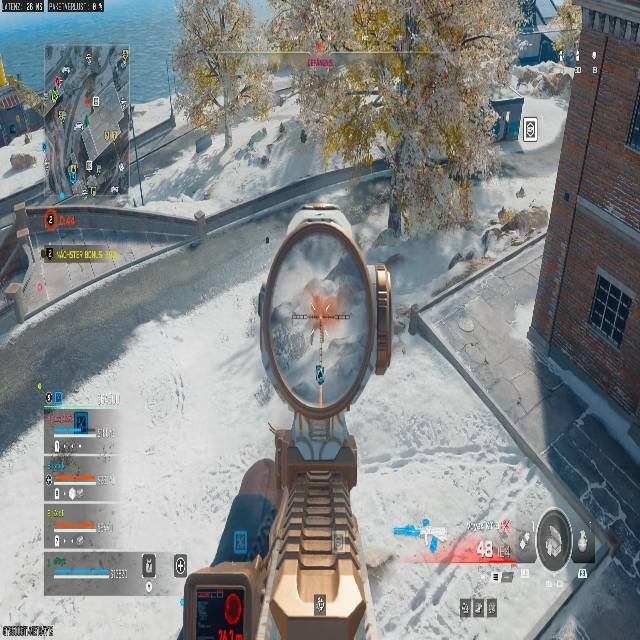player: (392, 302, 412, 355), (314, 362, 324, 384)
